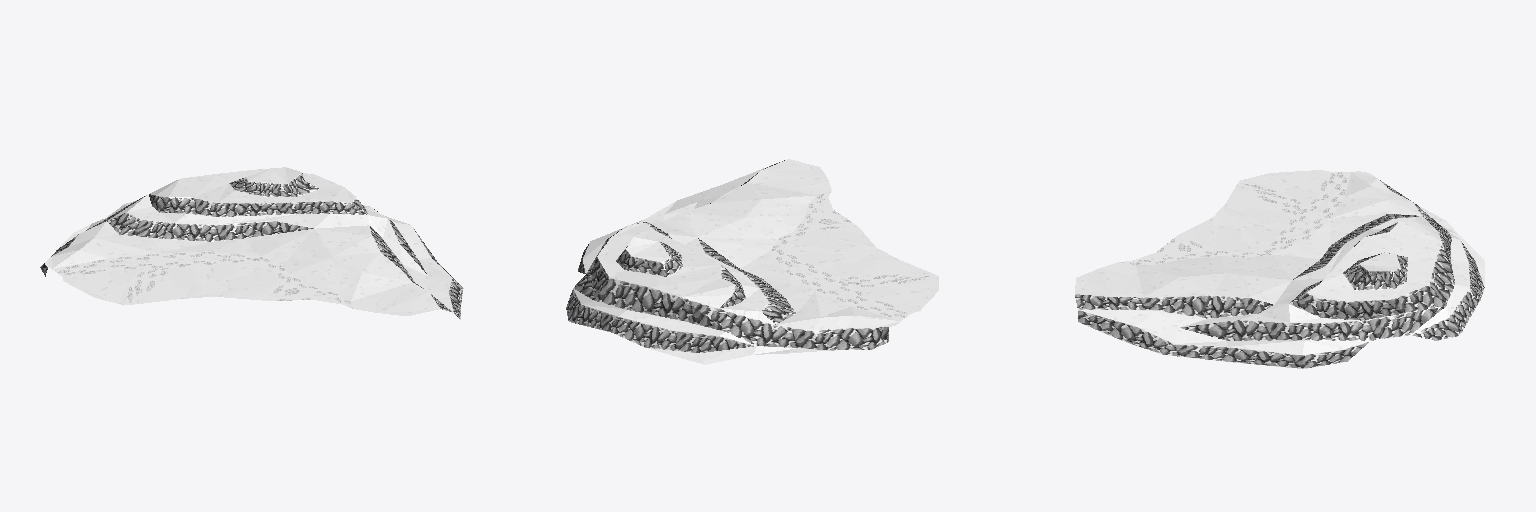
The picture shows the model from 3 angles: view 1: azimuth 30°, elevation 25°; view 2: azimuth 150°, elevation 25°; view 3: azimuth 270°, elevation 25°; orthographic projection.
Parts seen in each view (by area): view 1: Ground_Mesh.009, Ground.002_Mesh.012, Ground.001_Mesh.011; view 2: Ground_Mesh.009, Ground.002_Mesh.012, Ground.001_Mesh.011; view 3: Ground_Mesh.009, Ground.002_Mesh.012, Ground.001_Mesh.011.
Part boxes in pixels (left/top/right/bottom): Ground_Mesh.009: left=45, top=167, right=453, bottom=315; Ground.002_Mesh.012: left=40, top=173, right=463, bottom=319; Ground.001_Mesh.011: left=53, top=251, right=353, bottom=308; Ground_Mesh.009: left=573, top=159, right=938, bottom=364; Ground.002_Mesh.012: left=566, top=160, right=888, bottom=352; Ground.001_Mesh.011: left=771, top=191, right=937, bottom=320; Ground_Mesh.009: left=1075, top=170, right=1484, bottom=354; Ground.002_Mesh.012: left=1075, top=180, right=1484, bottom=368; Ground.001_Mesh.011: left=1118, top=170, right=1349, bottom=264.
Bounding box in the file's own units: 6.37 × 1.03 × 6.56.
Materials: 3 (3 with a texture image).